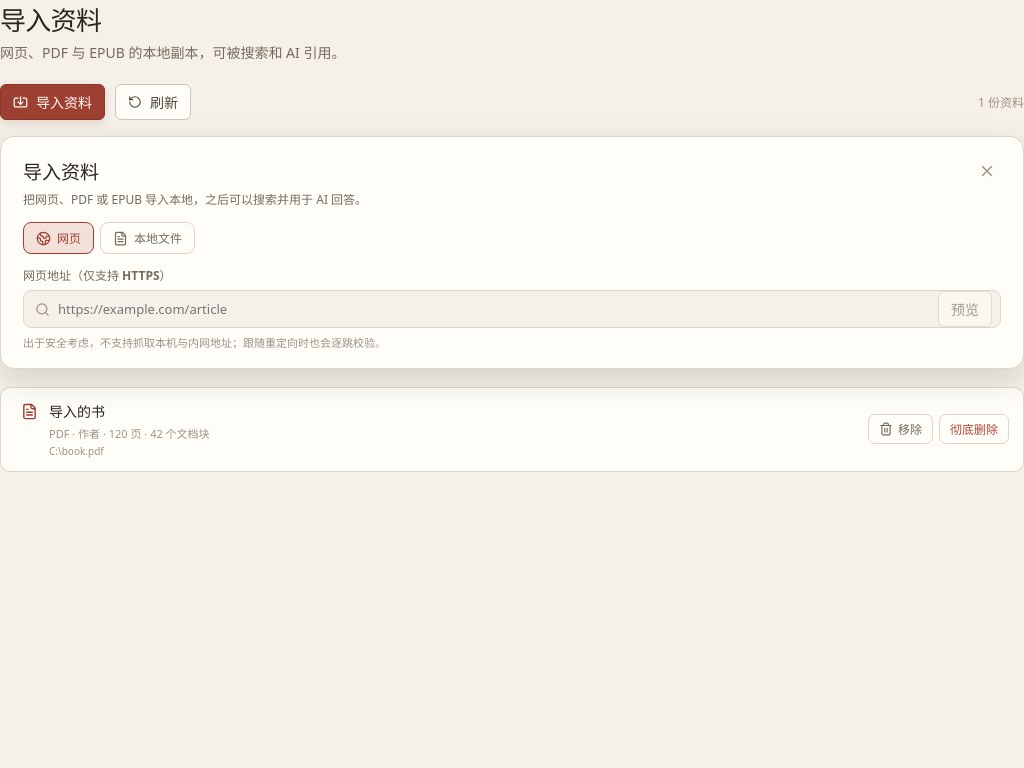
LibrarySources › 点击资料打开详情并显示页码定位
This screenshot has width=1024, height=768.
Click the text "导入的书". click: point(77, 411)
box: [49,402,105,421]
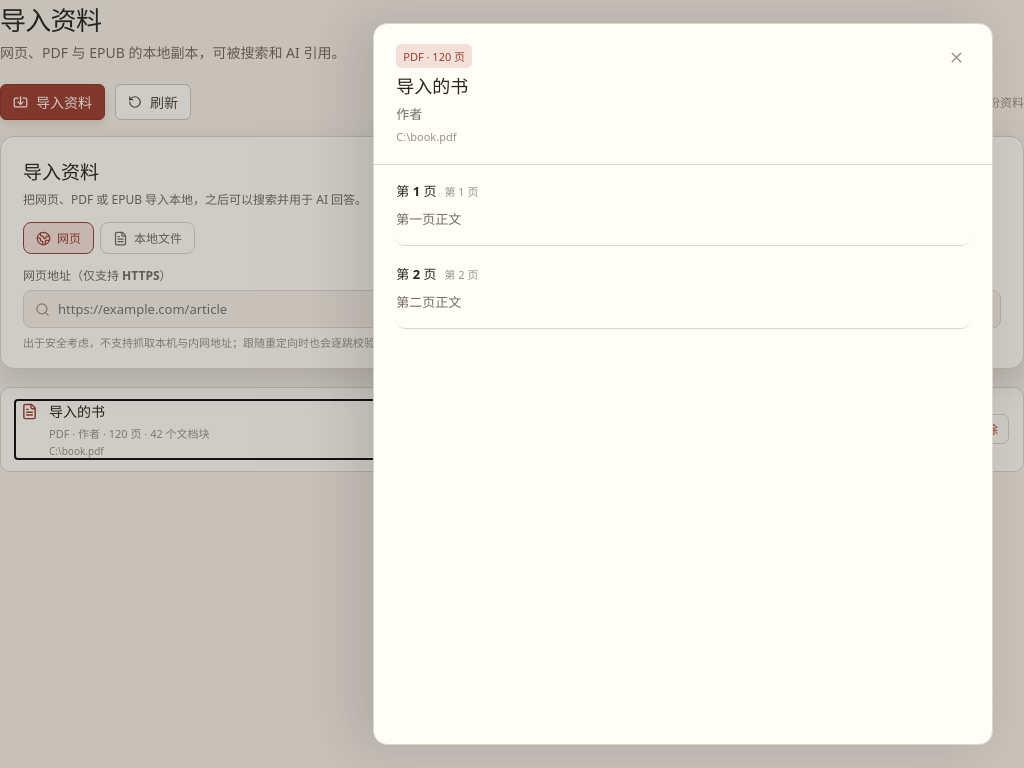
Expected: the text "第一页正文" is shown, [396,210,461,228]
Expected: the text "第 1 页" is shown, [396,182,436,200]
